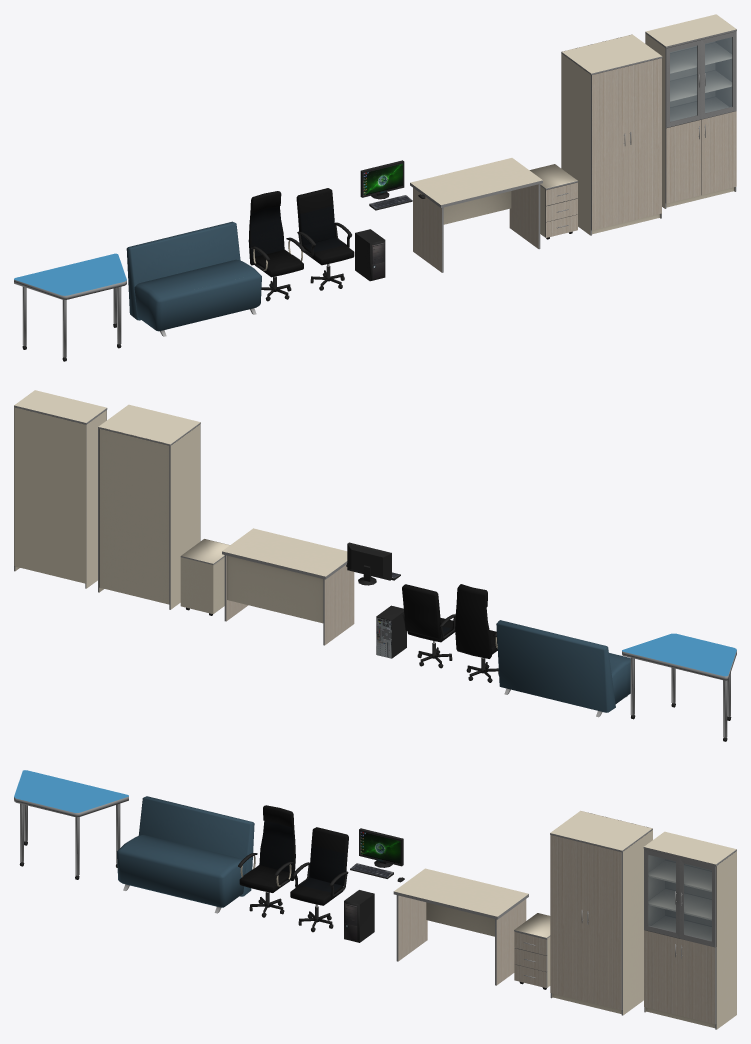
File: Office_furniture.fbx
3 renders of one model, top to bottom at view 1: azimuth 30°, elevation 25°; view 2: azimuth 150°, elevation 25°; view 3: azimuth 330°, elevation 25°, orthographic.
Parts seen in each view (by area): view 1: cupboard_1, cupboard_2, Sofa, Table_2, Table_1, Glass, Chair_1, Chair_2, stand, Computer, Monitor; view 2: cupboard_1, cupboard_2, Table_2, Sofa, Table_1, stand, Chair_1, Chair_2, Monitor, Computer; view 3: cupboard_1, cupboard_2, Sofa, Table_2, Table_1, Glass, Chair_1, Chair_2, stand, Computer, Monitor.
Part boxes in pixels (x1,y1,x2,y2): cupboard_1: [561, 34, 662, 235]; cupboard_2: [645, 14, 736, 208]; Sofa: [126, 221, 261, 336]; Table_2: [410, 158, 542, 272]; Table_1: [14, 253, 126, 361]; Glass: [670, 37, 732, 121]; Chair_1: [248, 191, 305, 301]; Chair_2: [296, 188, 354, 290]; stand: [529, 164, 577, 239]; Computer: [355, 229, 385, 281]; Monitor: [360, 160, 404, 199]; cupboard_1: [98, 404, 200, 609]; cupboard_2: [14, 390, 107, 588]; Table_2: [222, 528, 354, 645]; Sofa: [496, 620, 630, 717]; Table_1: [622, 633, 736, 741]; stand: [180, 539, 229, 615]; Chair_1: [455, 584, 498, 682]; Chair_2: [402, 584, 455, 668]; Monitor: [347, 542, 391, 585]; Computer: [376, 605, 406, 658]; cupboard_1: [550, 810, 652, 1015]; cupboard_2: [643, 831, 736, 1029]; Sofa: [117, 796, 254, 913]; Table_2: [393, 868, 528, 985]; Table_1: [14, 770, 128, 879]; Glass: [648, 855, 711, 940]; Chair_1: [238, 805, 295, 917]; Chair_2: [290, 827, 348, 932]; stand: [514, 913, 550, 989]; Computer: [344, 890, 374, 942]; Monitor: [359, 828, 403, 867].
Size of the model in its own units: 1029 by 229 by 90.79.
